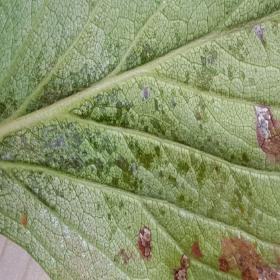Angular Leafspot: (0, 0, 279, 279)
